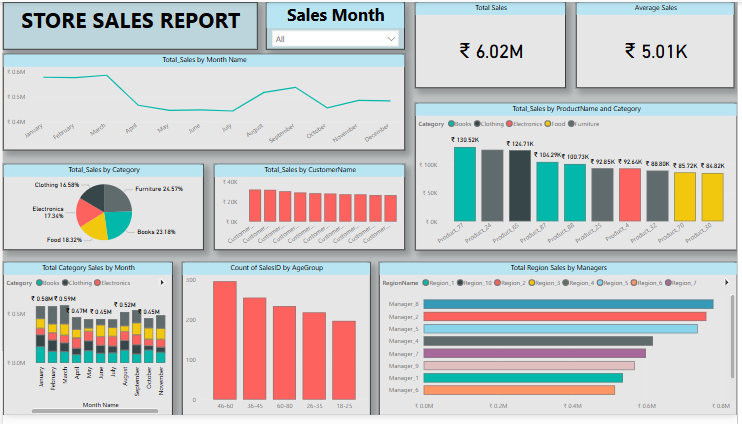

The page's visual inventory and layout, read from the dashboard file:
{"tool":"powerbi","page":{"name":"Page 1","canvas":[1280,720],"ordinal":0},"visuals":[{"type":"textbox","box":[0,0,444.1,82.7],"z":0},{"type":"slicer","title":"Sales Month","fields":{"Values":["Sales_table.SalesDate"]},"box":[459.3,0,241.6,82.7],"z":1000},{"type":"card","title":"Average Sales","fields":{"Values":["Sales_table.AverageSales"]},"box":[999.2,0,276.5,150.2],"z":2000},{"type":"card","title":"Total Sales","fields":{"Values":["Sales_table.Total_Sales"]},"box":[718.4,0,263.4,150.2],"z":3000},{"type":"columnChart","title":"Total Category Sales by Month","fields":{"Category":["Sales_table.SalesDate.Variation.Date Hierarchy.Month"],"Y":["Sales_table.Total_Sales"],"Series":["Product_table.Category"]},"box":[0,452.8,296.1,267.8],"z":4000},{"type":"columnChart","fields":{"Category":["Customer_table.AgeGroup"],"Y":["Sales_table.SalesID"]},"box":[311.3,452.8,328.7,267.8],"z":5000},{"type":"barChart","title":"Total Region Sales by Managers","fields":{"Category":["Regional_table.ManagerName"],"Y":["Sales_table.Total_Sales"],"Series":["Regional_table.RegionName"]},"box":[655.2,452.8,624.8,267.8],"z":6000},{"type":"pieChart","fields":{"Category":["Product_table.Category"],"Y":["Sales_table.Total_Sales"]},"box":[0,283,350.5,150.2],"z":7000},{"type":"columnChart","fields":{"Category":["Product_table.ProductName"],"Y":["Sales_table.Total_Sales"],"Series":["Product_table.Category"]},"box":[718.4,176.3,561.6,256.9],"z":8000},{"type":"clusteredColumnChart","fields":{"Y":["Sales_table.Total_Sales"],"Category":["Customer_table.CustomerName"]},"box":[367.9,283,333.1,150.2],"z":9000},{"type":"lineChart","fields":{"Category":["Sales_table.SalesDate.Variation.Date Hierarchy.Month"],"Y":["Sales_table.Total_Sales"]},"box":[0,91.4,701,167.6],"z":10000}]}

Visuals, with their boxes in screenshot pixels (x1, y1, x2, y2), scaled from the page's 1280x720 canvas onto the 742x424 screenshot:
textbox: pyautogui.locateOnScreen(0, 0, 257, 49)
"Sales Month" slicer: pyautogui.locateOnScreen(266, 0, 406, 49)
"Average Sales" card: pyautogui.locateOnScreen(579, 0, 740, 88)
"Total Sales" card: pyautogui.locateOnScreen(416, 0, 569, 88)
"Total Category Sales by Month" columnChart: pyautogui.locateOnScreen(0, 267, 172, 423)
columnChart - Customer_table.AgeGroup x Sales_table.SalesID: pyautogui.locateOnScreen(180, 267, 371, 423)
"Total Region Sales by Managers" barChart: pyautogui.locateOnScreen(380, 267, 741, 423)
pieChart - Product_table.Category x Sales_table.Total_Sales: pyautogui.locateOnScreen(0, 167, 203, 255)
columnChart - Product_table.ProductName x Sales_table.Total_Sales: pyautogui.locateOnScreen(416, 104, 741, 255)
clusteredColumnChart - Sales_table.Total_Sales x Customer_table.CustomerName: pyautogui.locateOnScreen(213, 167, 406, 255)
lineChart - Sales_table.SalesDate.Variation.Date Hierarchy.Month x Sales_table.Total_Sales: pyautogui.locateOnScreen(0, 54, 406, 153)
